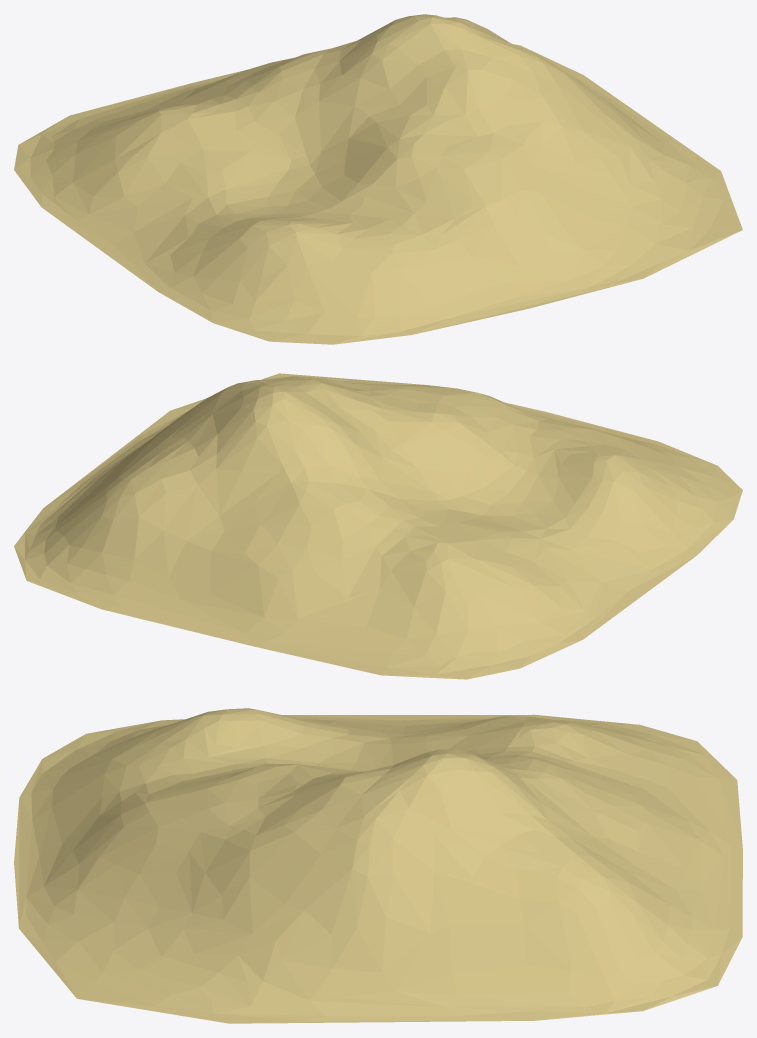
File: TerrainSand_11.fbx
The picture shows the model from 3 angles, top to bottom: view 1: azimuth 30°, elevation 25°; view 2: azimuth 150°, elevation 25°; view 3: azimuth 270°, elevation 25°; orthographic projection. The views are drawn at different scales.
Visible parts, largest first — view 1: TerrainSand_11; view 2: TerrainSand_11; view 3: TerrainSand_11.
Boxes of the visible parts, bbox=[...] form: TerrainSand_11: bbox=[14, 14, 742, 344]; TerrainSand_11: bbox=[14, 373, 742, 679]; TerrainSand_11: bbox=[14, 708, 742, 1023].
Size of the model in its own units: 1695 by 396 by 1692.
